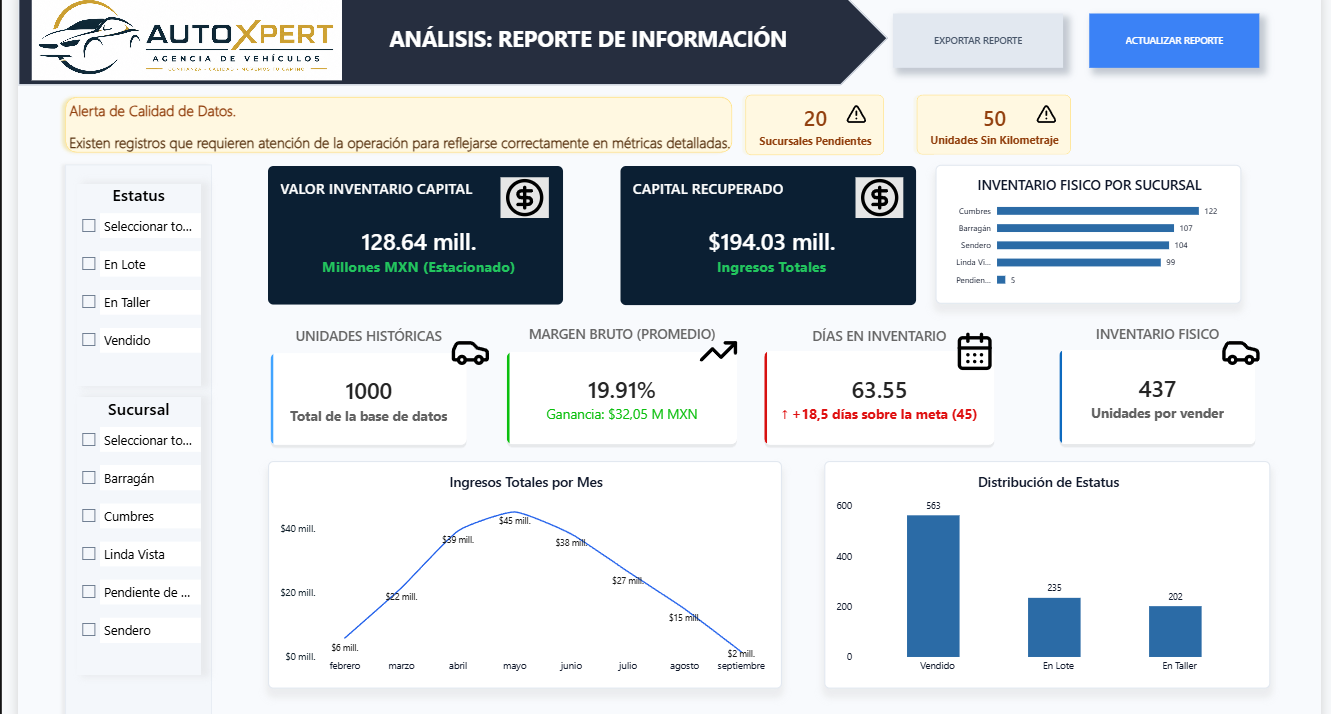

The dashboard page shown, as its layout file describes it:
{"tool":"powerbi","page":{"name":"ReporteAutos","canvas":[1920,1080],"ordinal":0},"visuals":[{"type":"shape","box":[0,0,1281.2,139.1],"z":0},{"type":"shape","box":[60.6,246.7,233.7,831],"z":1000},{"type":"cardVisual","title":"UNIDADES HISTÓRICAS","fields":{"Data":["ReporteAutos.Total Unidades"]},"box":[365.8,492.7,300,180.4],"z":2000},{"type":"cardVisual","title":"MARGEN BRUTO (PROMEDIO)","fields":{"Data":["ReporteAutos.Margen_Promedio_%"]},"box":[713.8,490.8,350.8,181.5],"z":3000},{"type":"cardVisual","title":"DÍAS EN INVENTARIO","fields":{"Data":["ReporteAutos.DSI_Promedio"]},"box":[1094.1,492.7,350,180.4],"z":4000},{"type":"cardVisual","title":"INVENTARIO FISICO","fields":{"Data":["ReporteAutos.Inventario_Fisico"]},"box":[1527.7,490.8,300,181.5],"z":5000},{"type":"cardVisual","title":"VALOR INVENTARIO CAPITAL","fields":{"Data":["ReporteAutos.Valor Inventario Actual"]},"box":[368.1,256.9,434.7,204.2],"z":6000},{"type":"columnChart","title":"Distribución de Estatus","fields":{"Category":["ReporteAutos.Estatus"],"Y":["ReporteAutos.Total Unidades"]},"box":[1187.1,692,657.1,335],"z":7000},{"type":"cardVisual","title":"Unidades Sin Kilometraje","fields":{"Data":["ReporteAutos.Unidades Sin Kilometraje"]},"box":[1318,147.2,238.1,99.6],"z":8000},{"type":"shape","box":[60.6,147.2,999.8,99.6],"z":9000},{"type":"cardVisual","fields":{"Data":["ReporteAutos.Sucursales Pendientes"]},"box":[1066.2,147.7,215.4,100],"z":10000},{"type":"textbox","box":[75.7,160.1,989,88.7],"z":11000},{"type":"slicer","title":"Estatus","fields":{"Values":["ReporteAutos.Estatus"]},"box":[86.3,284.3,182.4,298],"z":12000},{"type":"image","box":[995.8,501.4,70.8,59.7],"z":13000},{"type":"cardVisual","title":"CAPITAL RECUPERADO","fields":{"Data":["ReporteAutos.Ingresos_Totales"]},"box":[887.8,258.5,435.4,204.6],"z":14000},{"type":"image","box":[1233.8,273.8,70.8,60],"z":15000},{"type":"image","box":[711.1,273.6,70.8,59.7],"z":16000},{"type":"slicer","title":"Sucursal","fields":{"Values":["ReporteAutos.Sucursal"]},"box":[86.3,598,182.4,409.8],"z":17000},{"type":"image","box":[19.4,9.7,456.9,122.2],"z":18000},{"type":"image","box":[1373.6,501.4,70.8,59.7],"z":19000},{"type":"image","box":[1765.3,501.4,70.8,59.7],"z":20000},{"type":"image","box":[630.6,501.4,69.4,59.7],"z":21000},{"type":"actionButton","box":[1289.2,32.3,250.8,80],"z":22000},{"type":"actionButton","box":[1576.9,32.3,250.8,80],"z":23000},{"type":"lineChart","fields":{"Y":["ReporteAutos.Ingresos Totales"],"Category":["ReporteAutos.Fecha_Venta.Variación.Jerarquía de fechas.Mes"]},"box":[368.1,692,756.4,335],"z":24000},{"type":"barChart","title":"INVENTARIO FISICO POR SUCURSAL","fields":{"Category":["ReporteAutos.Sucursal"],"Y":["ReporteAutos.Inventario Fisico"]},"box":[1351.6,256.2,450,204.7],"z":25000},{"type":"textbox","box":[547.1,47.1,682.4,47.1],"z":26000},{"type":"image","box":[1209.2,165.6,49.7,31.3],"z":27000},{"type":"image","box":[1489,165.6,49.7,31.3],"z":28000}]}

Visuals, with their boxes on the page's 1920x1080 design canvas (x1, y1, x2, y2). These are canvas units, not pixel positions in the 1331x714 screenshot, which may show the page scaled, cropped or inside an application window:
shape: (x1=0, y1=0, x2=1281, y2=139)
shape: (x1=61, y1=247, x2=294, y2=1078)
"UNIDADES HISTÓRICAS" cardVisual: (x1=366, y1=493, x2=666, y2=673)
"MARGEN BRUTO (PROMEDIO)" cardVisual: (x1=714, y1=491, x2=1065, y2=672)
"DÍAS EN INVENTARIO" cardVisual: (x1=1094, y1=493, x2=1444, y2=673)
"INVENTARIO FISICO" cardVisual: (x1=1528, y1=491, x2=1828, y2=672)
"VALOR INVENTARIO CAPITAL" cardVisual: (x1=368, y1=257, x2=803, y2=461)
"Distribución de Estatus" columnChart: (x1=1187, y1=692, x2=1844, y2=1027)
"Unidades Sin Kilometraje" cardVisual: (x1=1318, y1=147, x2=1556, y2=247)
shape: (x1=61, y1=147, x2=1060, y2=247)
cardVisual - ReporteAutos.Sucursales Pendientes: (x1=1066, y1=148, x2=1282, y2=248)
textbox: (x1=76, y1=160, x2=1065, y2=249)
"Estatus" slicer: (x1=86, y1=284, x2=269, y2=582)
image: (x1=996, y1=501, x2=1067, y2=561)
"CAPITAL RECUPERADO" cardVisual: (x1=888, y1=258, x2=1323, y2=463)
image: (x1=1234, y1=274, x2=1305, y2=334)
image: (x1=711, y1=274, x2=782, y2=333)
"Sucursal" slicer: (x1=86, y1=598, x2=269, y2=1008)
image: (x1=19, y1=10, x2=476, y2=132)
image: (x1=1374, y1=501, x2=1444, y2=561)
image: (x1=1765, y1=501, x2=1836, y2=561)
image: (x1=631, y1=501, x2=700, y2=561)
actionButton: (x1=1289, y1=32, x2=1540, y2=112)
actionButton: (x1=1577, y1=32, x2=1828, y2=112)
lineChart - ReporteAutos.Ingresos Totales x ReporteAutos.Fecha_Venta.Variación.Jerarquía de fechas.Mes: (x1=368, y1=692, x2=1124, y2=1027)
"INVENTARIO FISICO POR SUCURSAL" barChart: (x1=1352, y1=256, x2=1802, y2=461)
textbox: (x1=547, y1=47, x2=1230, y2=94)
image: (x1=1209, y1=166, x2=1259, y2=197)
image: (x1=1489, y1=166, x2=1539, y2=197)
